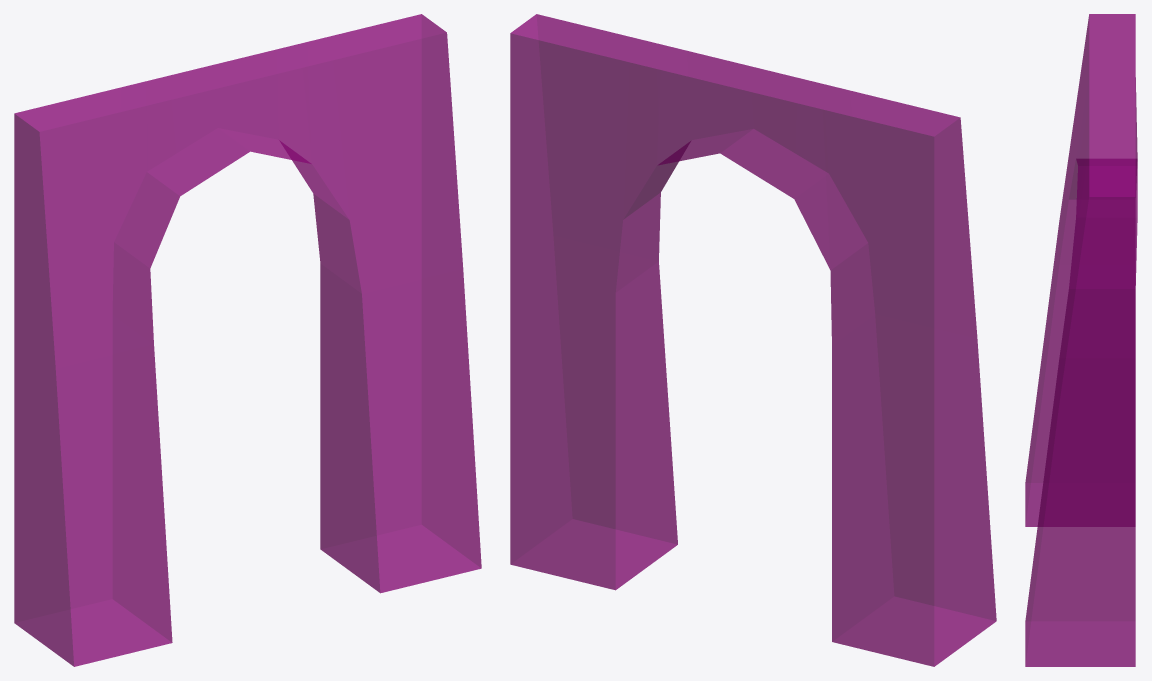
Rendered from SM_Bld_Archway_Top_01_Collision.fbx.
3 renders of one model, left to right at view 1: azimuth 30°, elevation 25°; view 2: azimuth 150°, elevation 25°; view 3: azimuth 270°, elevation 25°, orthographic. The views are drawn at different scales.
Parts seen in each view (by area): view 1: SM_Bld_Archway_Top_01_Collision; view 2: SM_Bld_Archway_Top_01_Collision; view 3: SM_Bld_Archway_Top_01_Collision.
Part boxes in pixels (box(x1,y1,x2,y2)): SM_Bld_Archway_Top_01_Collision: box(14, 14, 481, 666); SM_Bld_Archway_Top_01_Collision: box(510, 14, 996, 666); SM_Bld_Archway_Top_01_Collision: box(1025, 14, 1137, 666).
Bounding box in the file's own units: 254 × 304 × 65.78.
